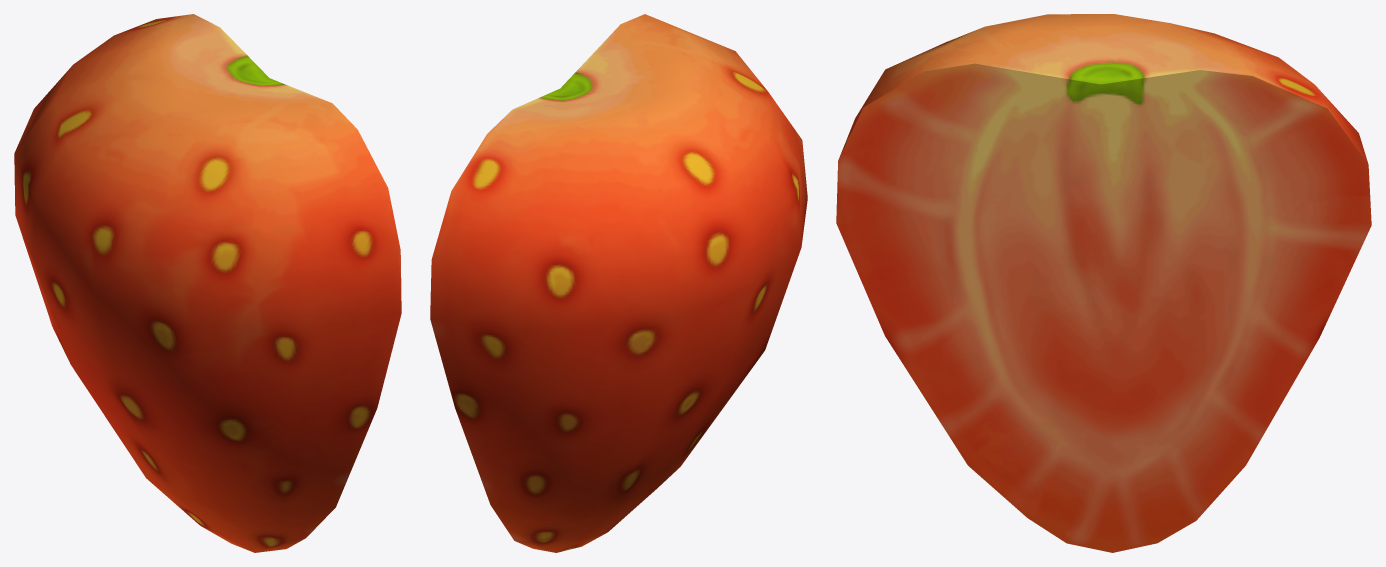
The model's file is SM_StrawberryCutA.fbx.
3 renders of one model, left to right at view 1: azimuth 30°, elevation 25°; view 2: azimuth 150°, elevation 25°; view 3: azimuth 270°, elevation 25°, orthographic. The views are drawn at different scales.
Parts seen in each view (by area): view 1: SM_StrawberryCutA; view 2: SM_StrawberryCutA; view 3: SM_StrawberryCutA.
Part boxes in pixels (<box>): SM_StrawberryCutA: <box>14,14,401,552</box>; SM_StrawberryCutA: <box>430,14,807,552</box>; SM_StrawberryCutA: <box>836,14,1371,552</box>.
Size of the model in its own units: 3.45 by 7.39 by 7.33.
